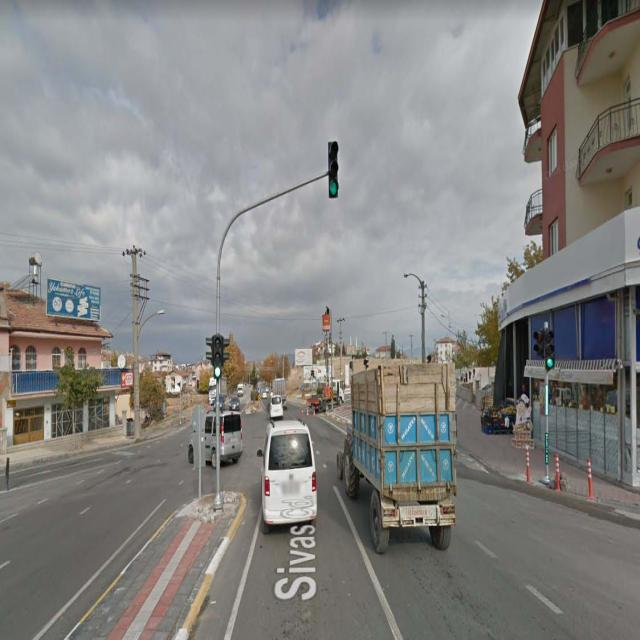yesil: (328, 144, 339, 202), (545, 326, 555, 372), (213, 336, 222, 381)
